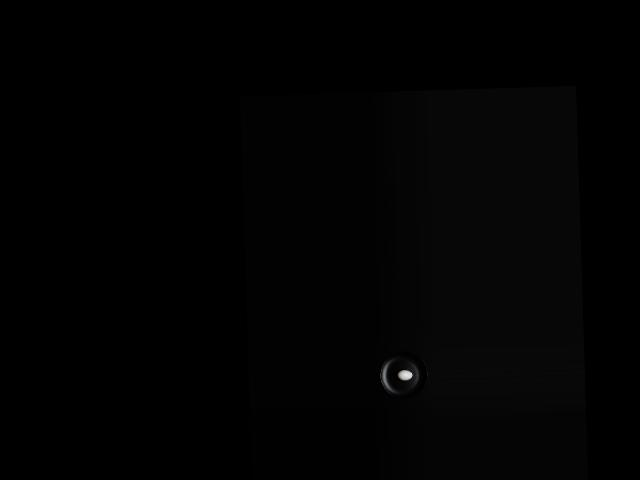egg: (396, 369, 412, 380)
